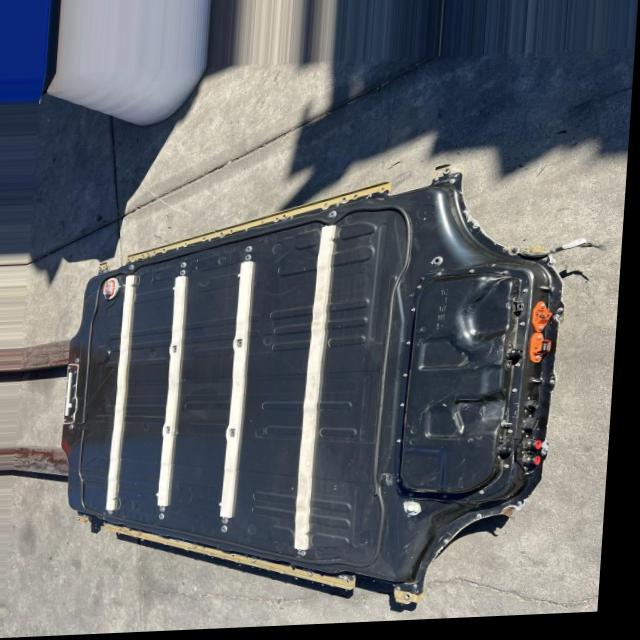Bolt: (402, 505, 433, 524), (403, 376, 419, 389), (517, 324, 532, 336), (410, 309, 423, 322), (397, 442, 415, 449), (418, 287, 431, 296), (480, 494, 494, 502), (525, 292, 535, 301), (408, 344, 419, 352), (404, 405, 414, 413), (512, 392, 523, 399), (472, 273, 483, 280), (509, 469, 518, 477), (518, 367, 529, 373), (506, 273, 512, 282), (512, 435, 521, 440)
Nut: (438, 276, 449, 285)
Screw: (158, 504, 180, 523), (224, 517, 244, 536), (432, 255, 450, 273), (168, 342, 188, 358), (228, 427, 247, 442), (128, 262, 148, 274), (236, 340, 253, 352), (178, 261, 196, 271), (329, 211, 342, 224), (168, 425, 180, 439), (175, 272, 200, 278), (245, 247, 260, 256), (244, 256, 261, 263)
